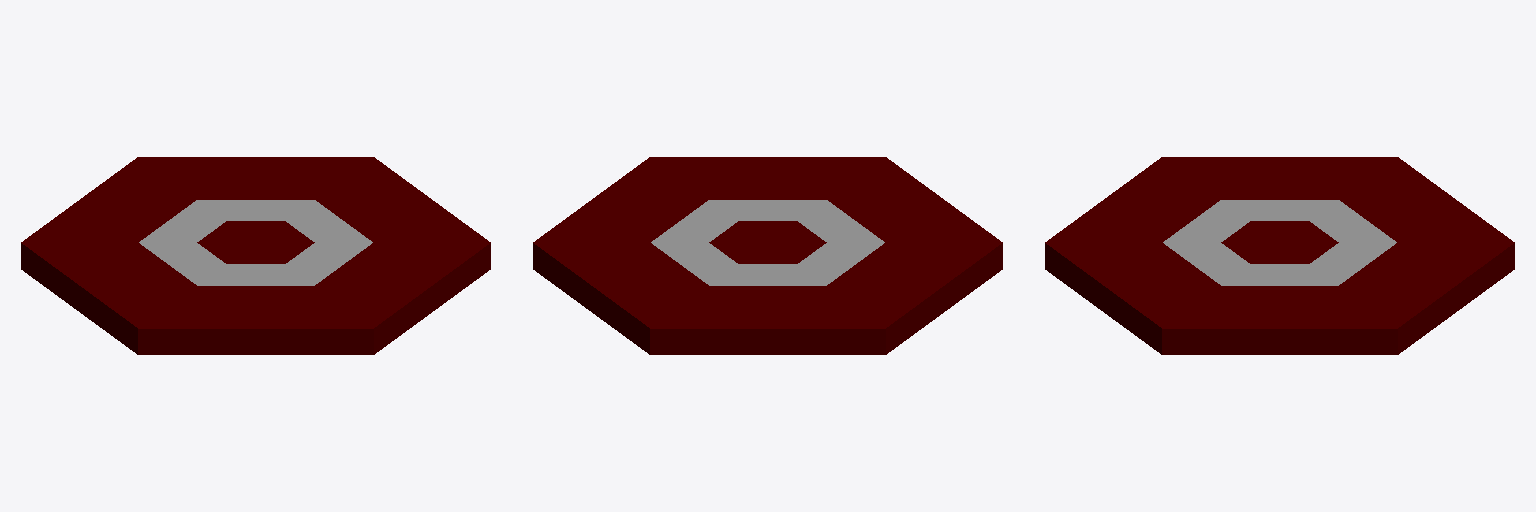
File: target.obj
3 renders of one model, left to right at view 1: azimuth 30°, elevation 25°; view 2: azimuth 150°, elevation 25°; view 3: azimuth 270°, elevation 25°, orthographic.
Visible parts, largest first — view 1: Cylinder; view 2: Cylinder; view 3: Cylinder.
Part boxes in pixels (x1,y1,x2,y2): Cylinder: (21, 157, 490, 354); Cylinder: (533, 157, 1002, 354); Cylinder: (1045, 157, 1514, 354).
Size of the model in its own units: 2.31 by 0.1667 by 2.67.